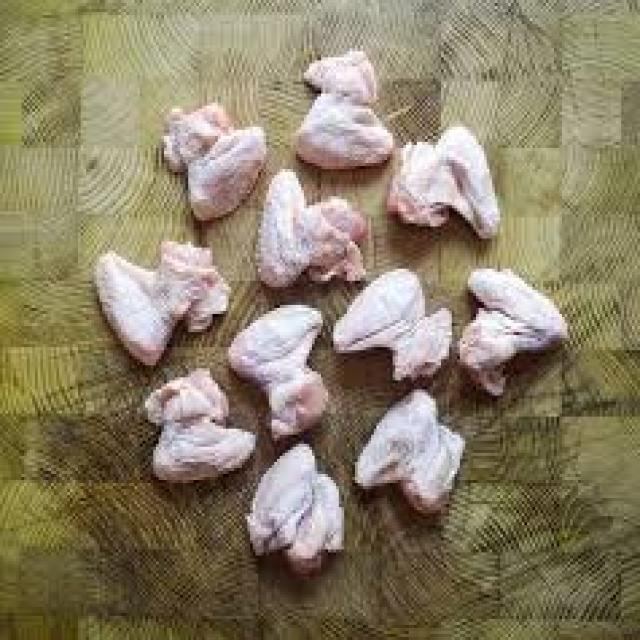chicken: (94, 245, 229, 365), (460, 269, 570, 398), (229, 305, 331, 441), (333, 269, 454, 383), (358, 392, 468, 516), (258, 169, 366, 288), (145, 371, 255, 486), (390, 127, 503, 238), (164, 103, 269, 219), (296, 51, 395, 169), (247, 447, 344, 562)
